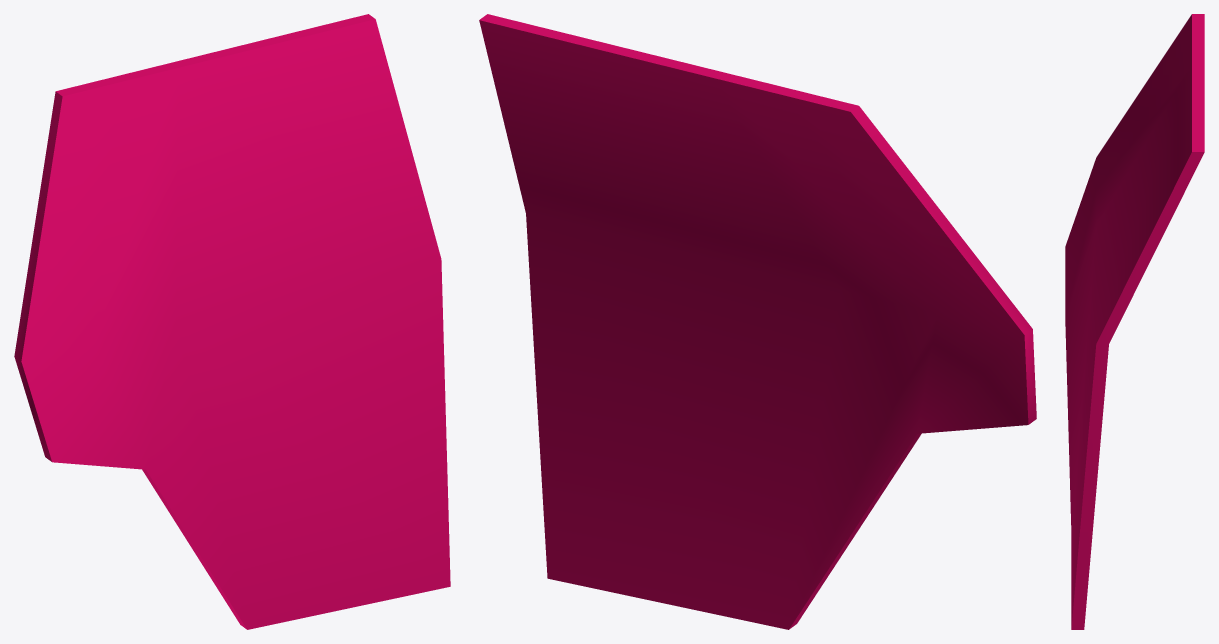
File: Car_Door_02B_Collider.fbx
The picture shows the model from 3 angles, left to right: view 1: azimuth 30°, elevation 25°; view 2: azimuth 150°, elevation 25°; view 3: azimuth 270°, elevation 25°; orthographic projection. The views are drawn at different scales.
Parts seen in each view (by area): view 1: Car_Door_02B_Collider; view 2: Car_Door_02B_Collider; view 3: Car_Door_02B_Collider.
Boxes of the visible parts, left/top/right/bottom form: Car_Door_02B_Collider: left=14, top=14, right=450, bottom=629; Car_Door_02B_Collider: left=479, top=14, right=1036, bottom=629; Car_Door_02B_Collider: left=1065, top=14, right=1204, bottom=629.
Bounding box in the file's own units: 105 × 125 × 33.23.
